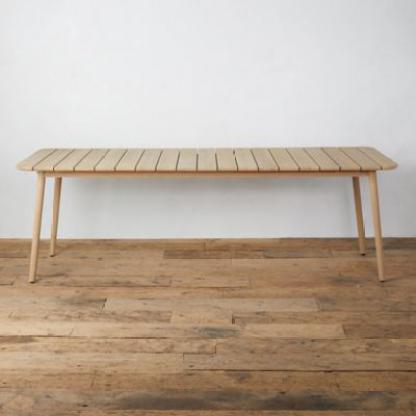table: (12, 142, 402, 288)
